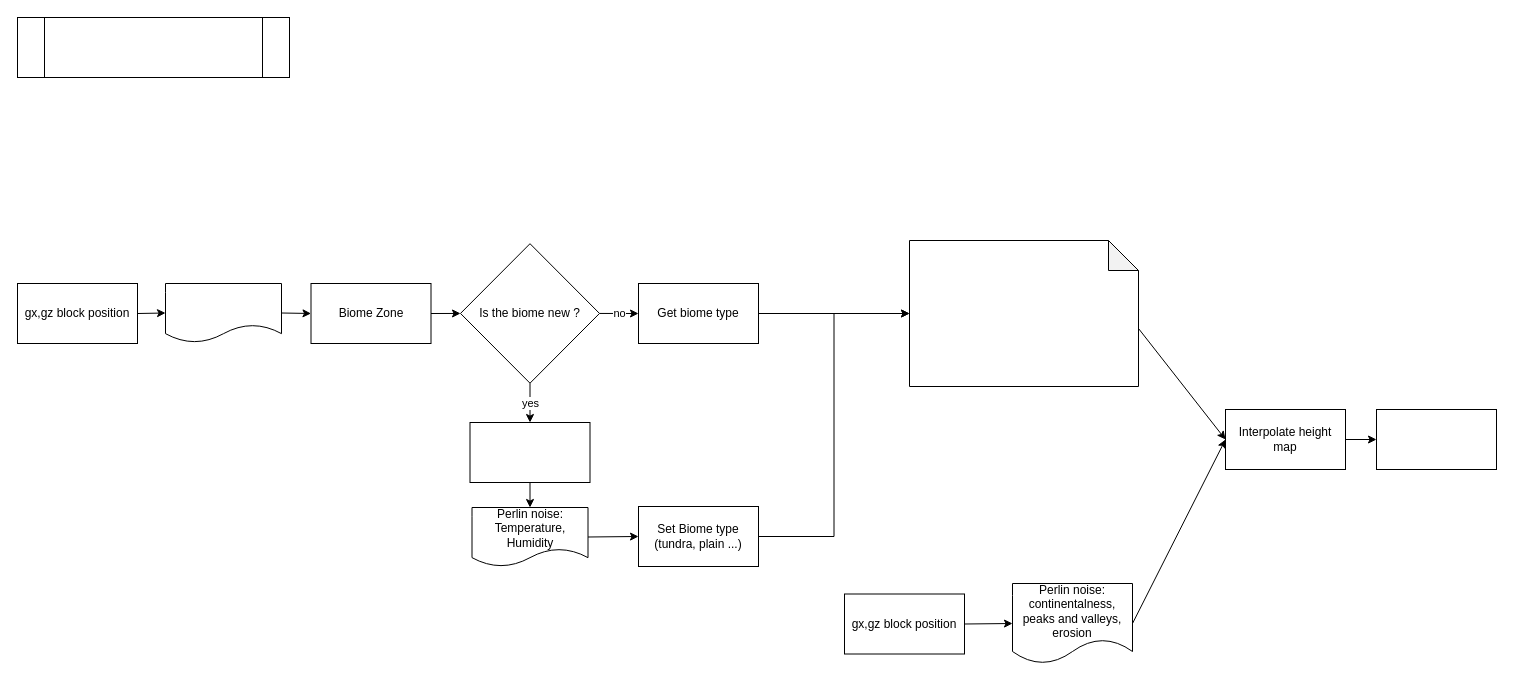
This 1514x681 diagram has some shape labels left out. The centre of each missing label's shape, as x and y in pixels:
"Get y block from biome type" belongs at (x=1436, y=439).
"gx, gz biome center position" belongs at (x=529, y=452).
"Height Curves from biome type: continentalness, peaks and valleys, erosion" belongs at (x=1023, y=313).
"Procedural terrain generation" belongs at (x=153, y=47).
"Worlay Noise" belongs at (x=223, y=312).
